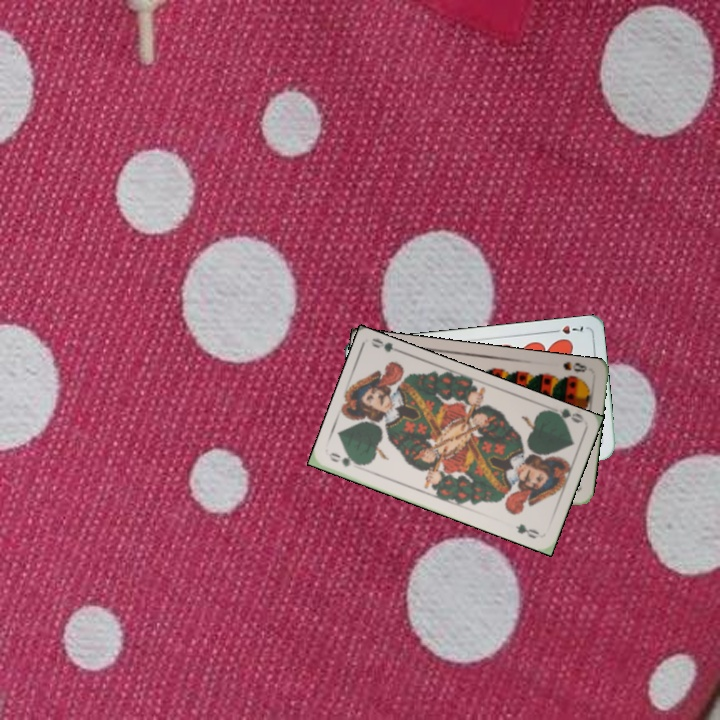GO: (545, 404, 586, 427), (326, 452, 366, 470)
H7: (547, 321, 587, 337)
S8: (559, 358, 590, 375)
